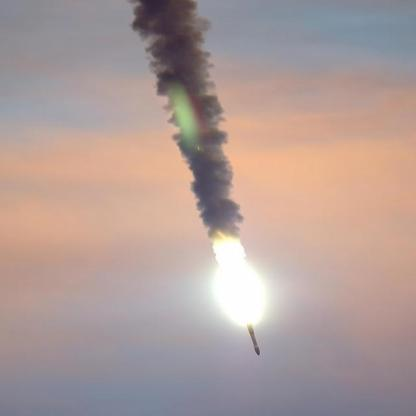MIL_TBM: (246, 324, 261, 358)
